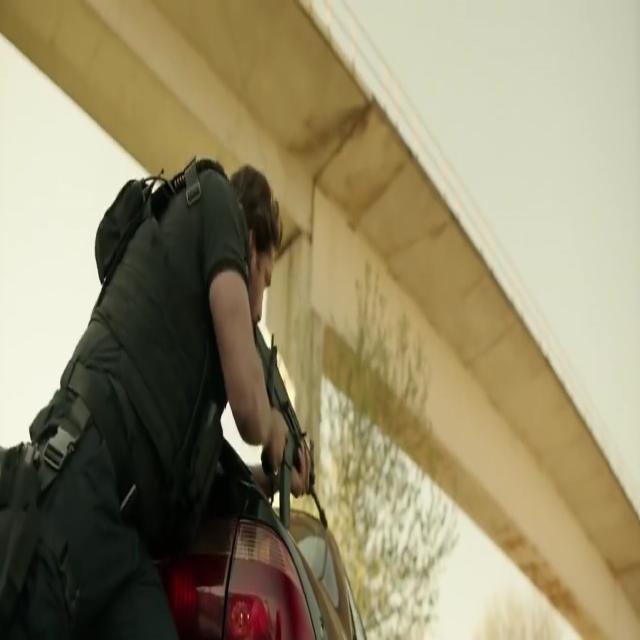Weapon: (238, 287, 331, 534)
